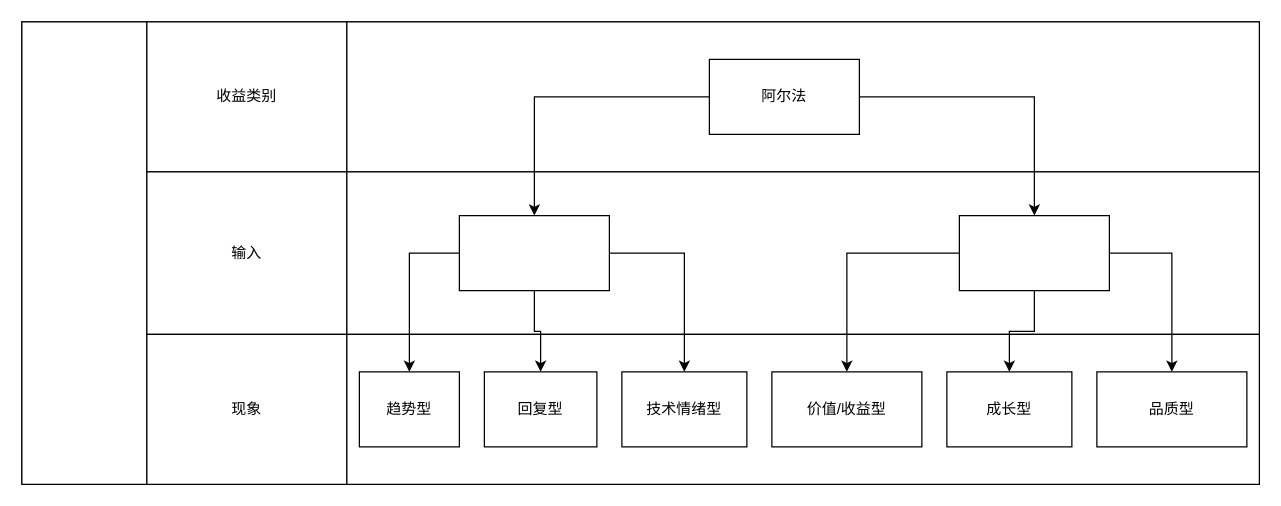
Image size: 1281x506. Some labels were removed from this diagram. The centre of each missing label's shape, as x and y in pixels:
Quant 做什么: point 84,252
价格: point 533,252
基本面: point 1033,252
